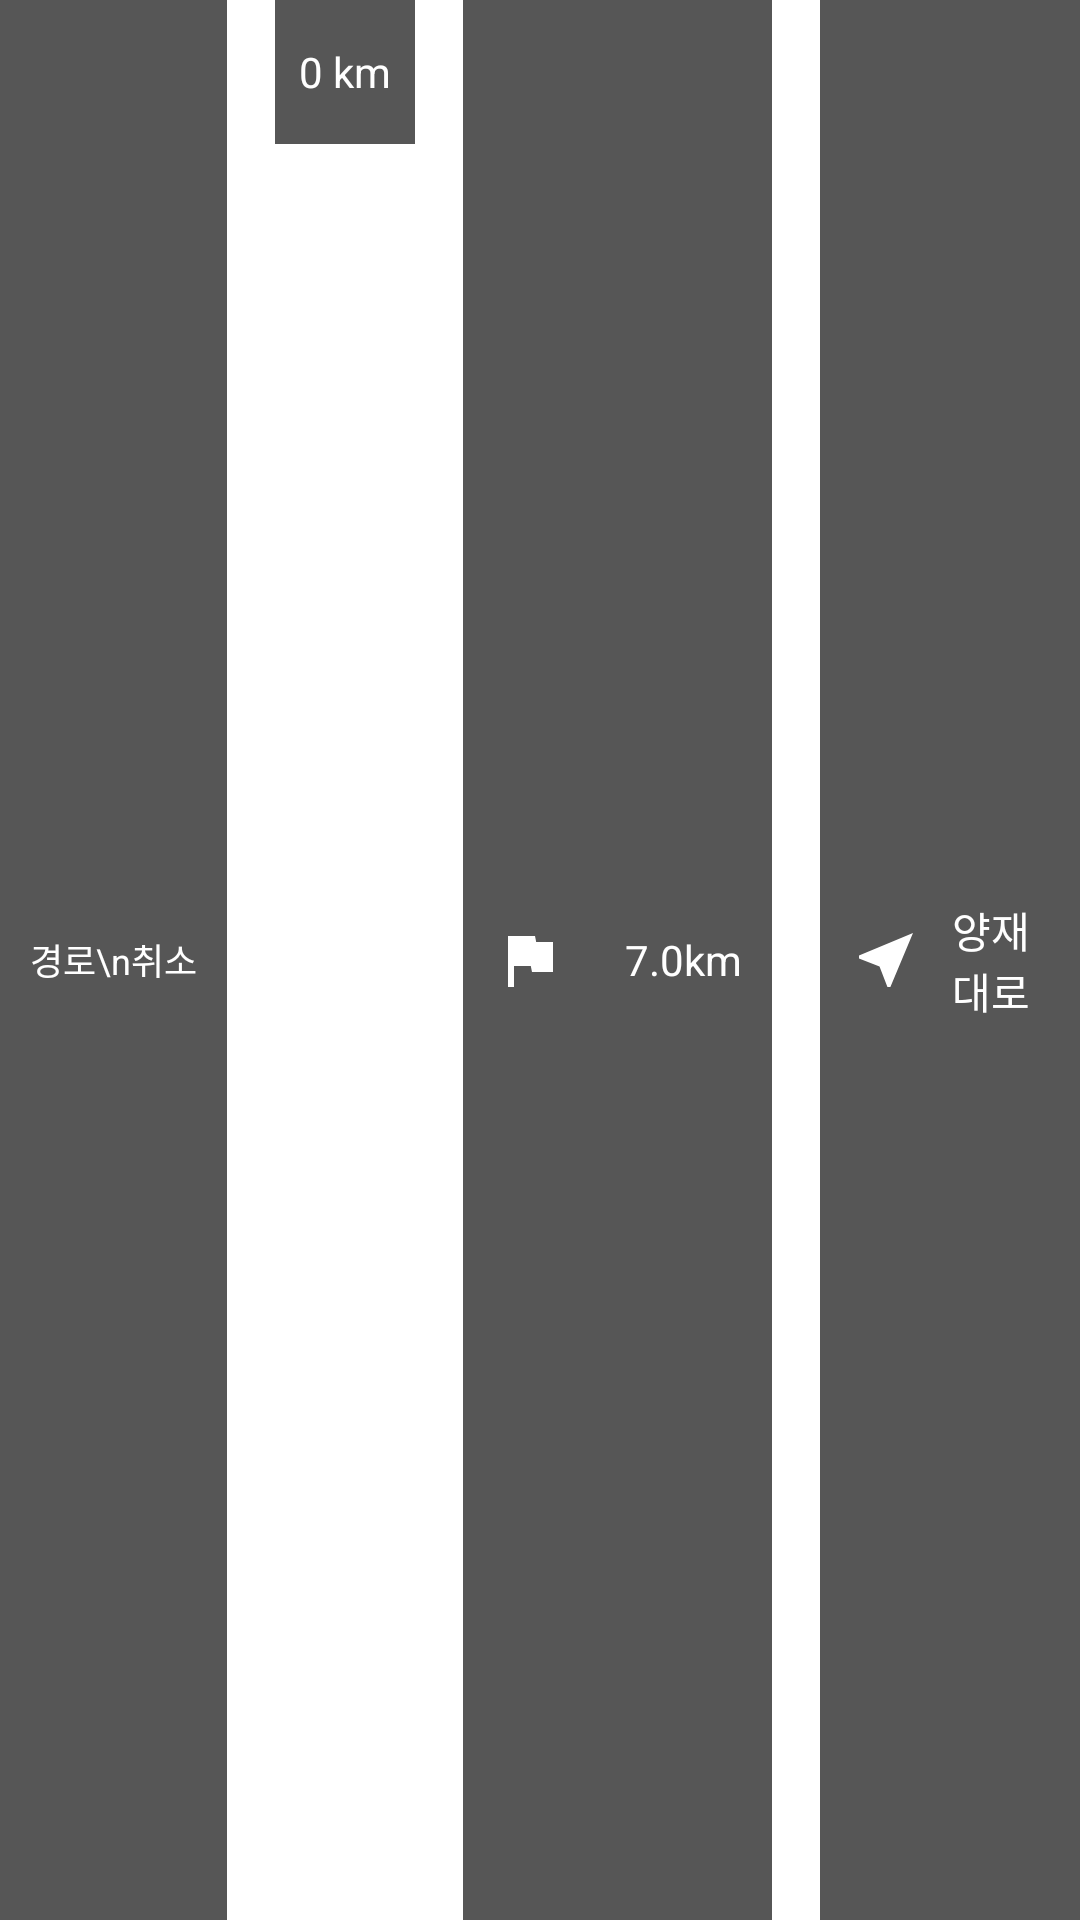

Named icons in this screenshot (1080 x 1920) and their centers, (x=x, y=y):
arrival flag: (x=530, y=961)
